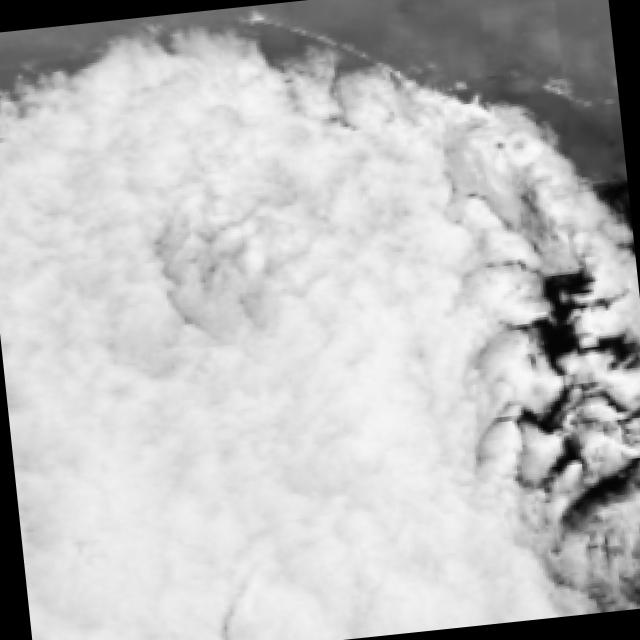CB: (335, 331, 524, 636), (166, 283, 404, 488), (157, 132, 374, 332), (196, 434, 405, 640), (82, 63, 276, 270), (4, 350, 196, 546), (0, 153, 171, 361), (307, 148, 469, 353), (19, 501, 236, 640)
